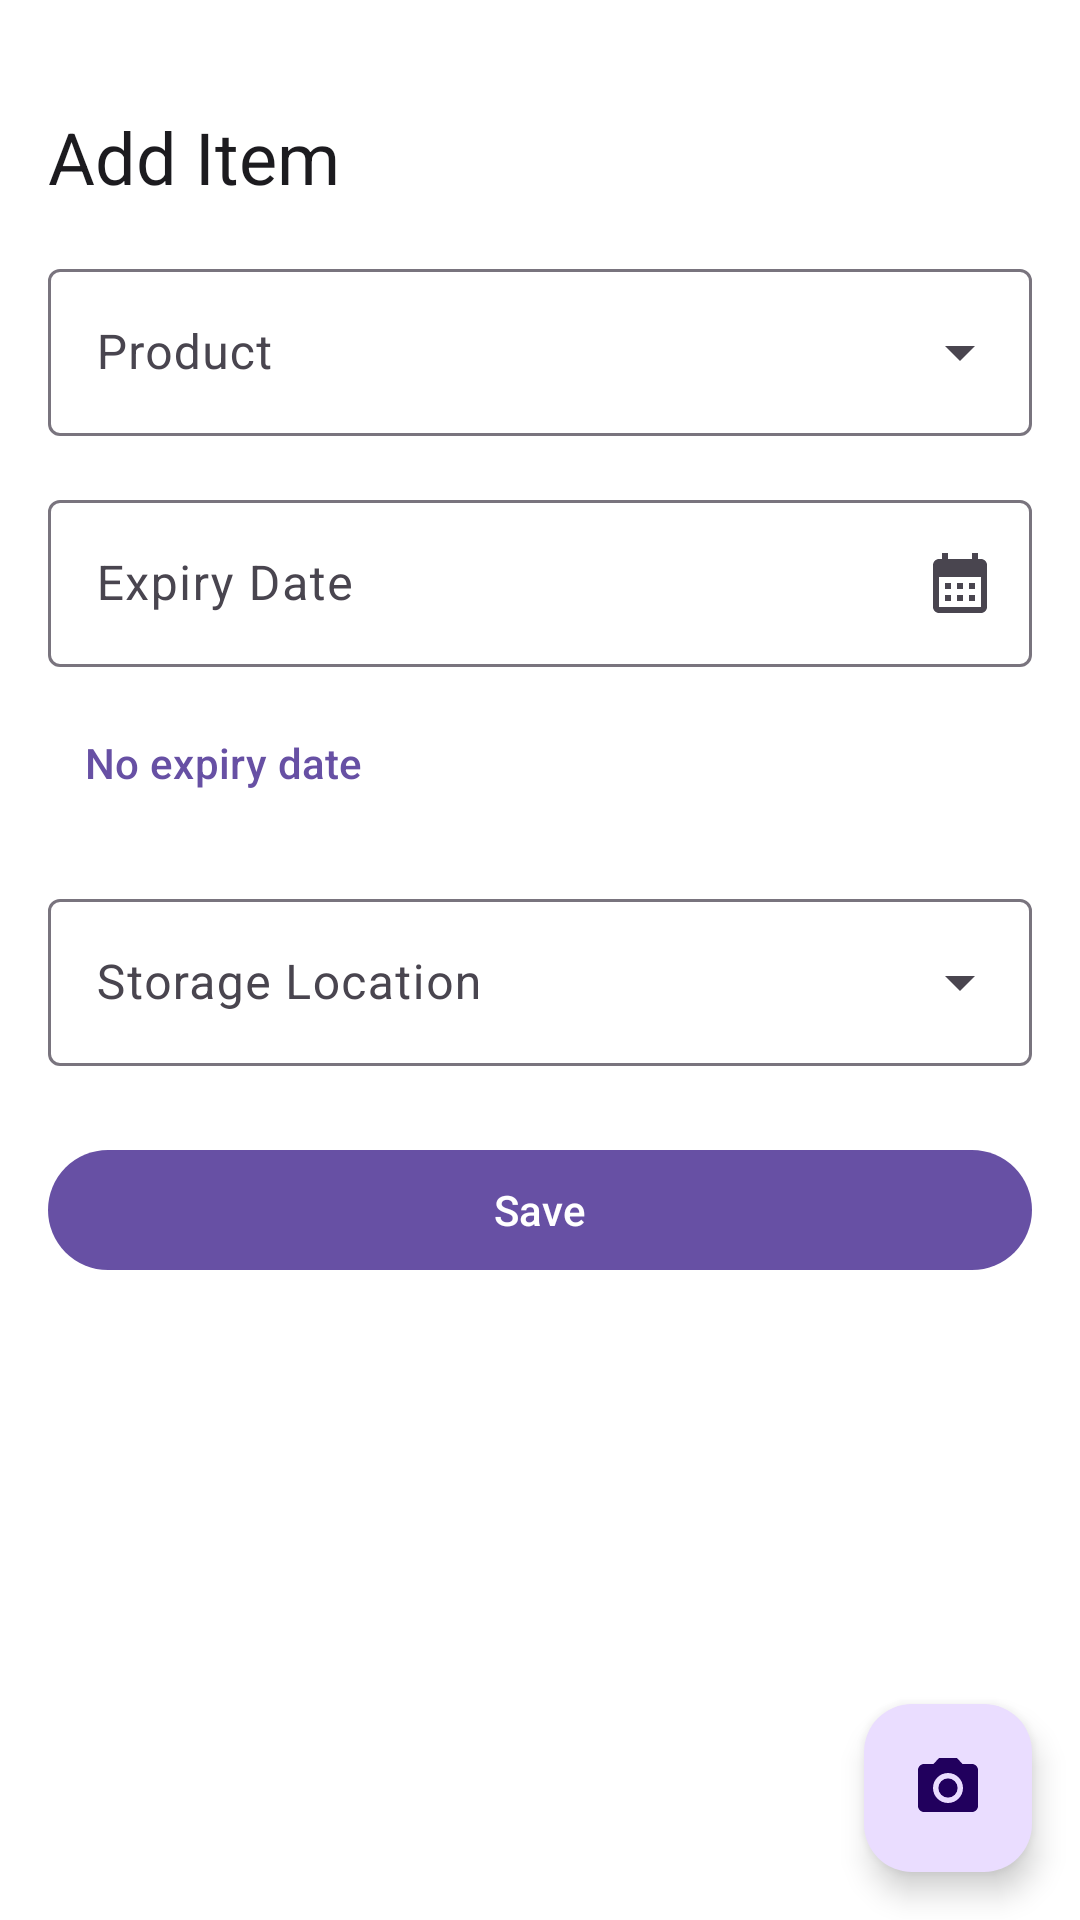

Where to tap for icons on this 1080×1920 app screen, as point (x, y):
Scan: point (948, 1788)
